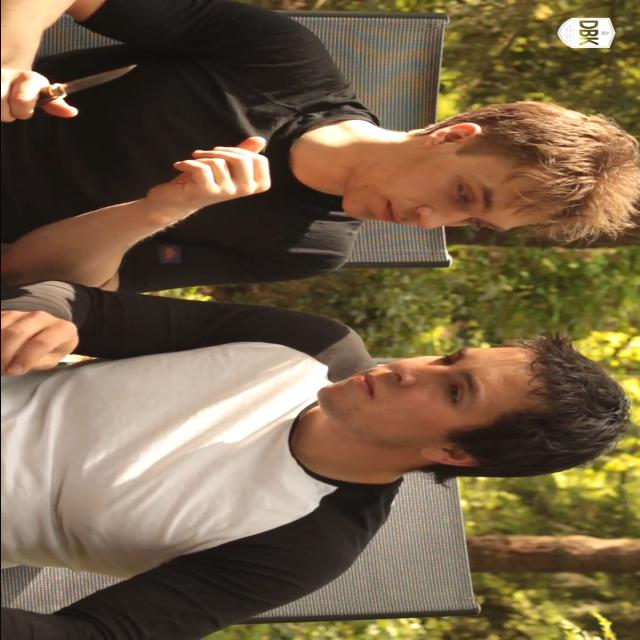knife: (1, 56, 155, 118)
